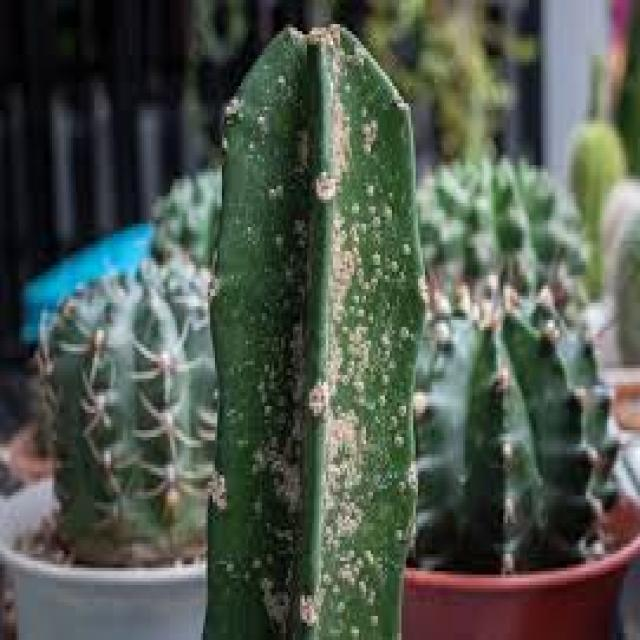scale_insect: (366, 244, 383, 268), (262, 179, 279, 203), (269, 176, 286, 200), (345, 192, 361, 216), (390, 426, 404, 451), (394, 316, 408, 341), (392, 472, 406, 496), (385, 251, 399, 275), (397, 234, 411, 258), (364, 606, 380, 626), (368, 207, 381, 230), (364, 196, 378, 217), (385, 406, 397, 430), (362, 176, 376, 196), (326, 575, 340, 595), (318, 564, 331, 585), (345, 620, 361, 636), (352, 299, 364, 320), (394, 396, 406, 416), (338, 368, 350, 386), (354, 354, 364, 372), (359, 540, 368, 558), (364, 547, 373, 564)
